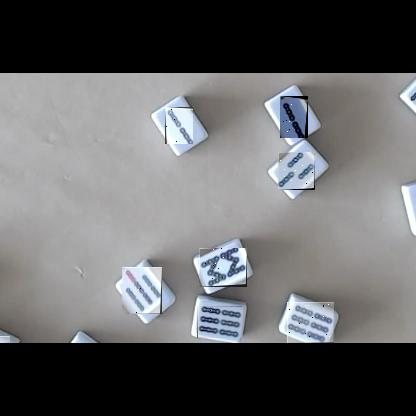2s: (280, 96, 308, 138), (165, 107, 193, 144)
3s: (278, 152, 315, 190), (0, 336, 10, 343)
6s: (287, 302, 334, 343), (197, 306, 242, 338)
7s: (122, 267, 162, 314)
8s: (199, 248, 247, 287)
